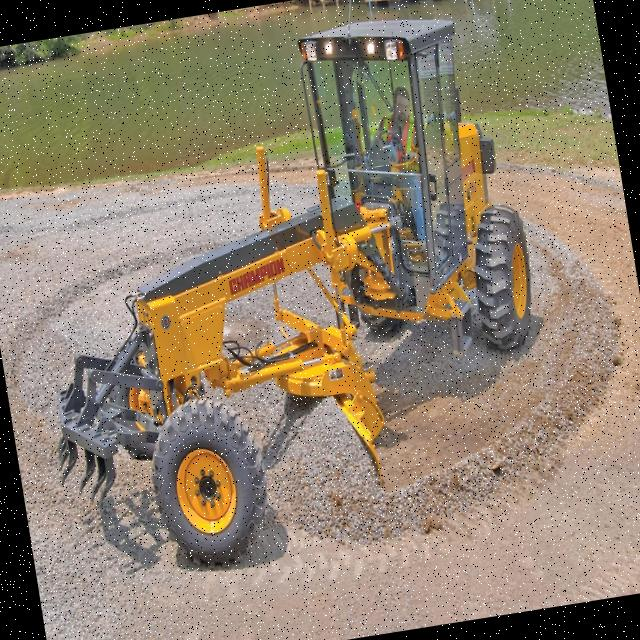Grader: (0, 0, 587, 591)
